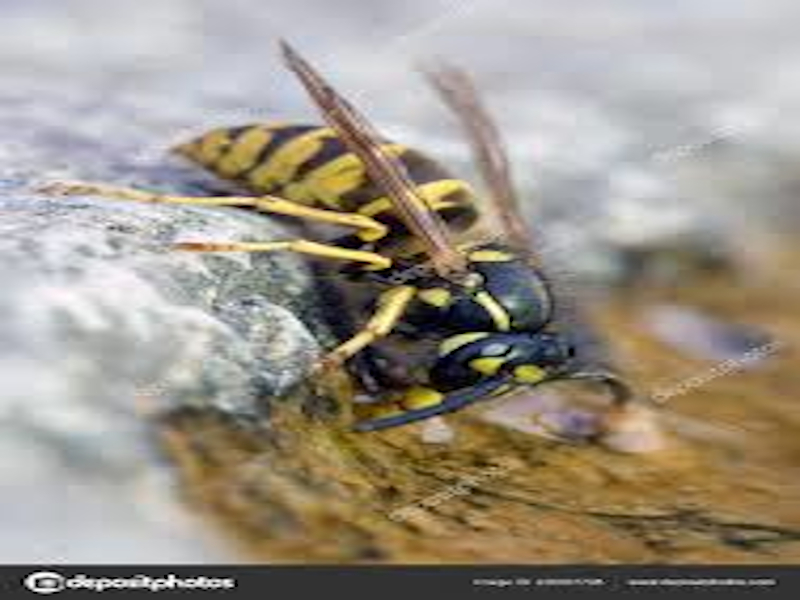chax: (94, 30, 646, 432)
